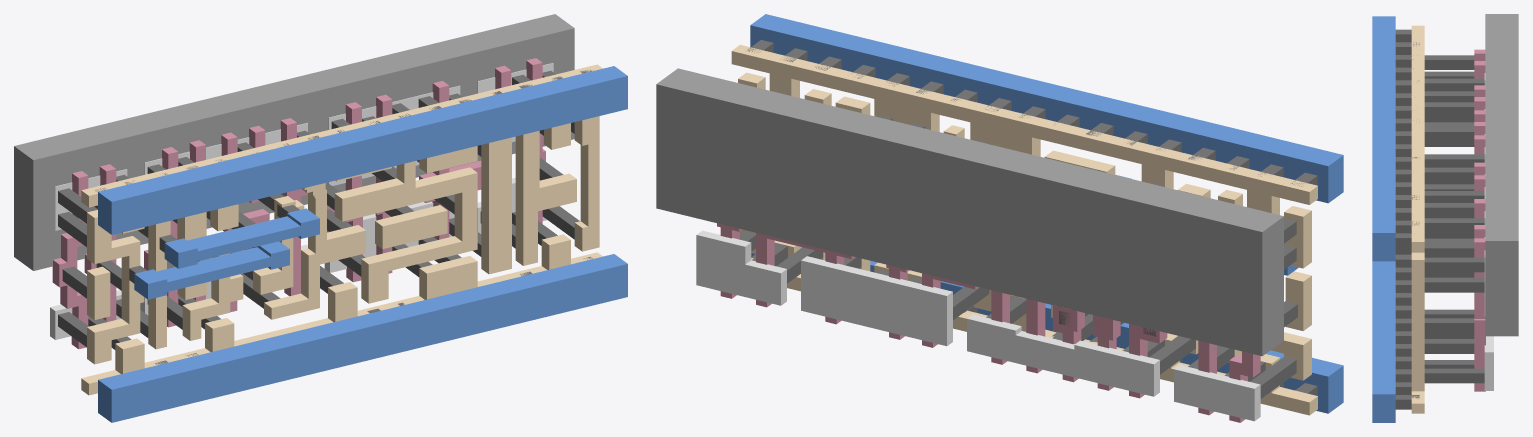
File: sky130_fd_sc_hd__dlrbp_1.gds.gltf
3 views of the same model, side by side, from view 1: azimuth 30°, elevation 25°; view 2: azimuth 150°, elevation 25°; view 3: azimuth 270°, elevation 25° (orthographic). The views are drawn at different scales.
Parts seen in each view (by area): view 1: sky130_fd_sc_hd__dlrbp_1_met1, sky130_fd_sc_hd__dlrbp_1_li1, sky130_fd_sc_hd__dlrbp_1_nwell, sky130_fd_sc_hd__dlrbp_1_licon, sky130_fd_sc_hd__dlrbp_1_poly, sky130_fd_sc_hd__dlrbp_1_diff, sky130_fd_sc_hd__dlrbp_1_mcon; view 2: sky130_fd_sc_hd__dlrbp_1_nwell, sky130_fd_sc_hd__dlrbp_1_li1, sky130_fd_sc_hd__dlrbp_1_diff, sky130_fd_sc_hd__dlrbp_1_met1, sky130_fd_sc_hd__dlrbp_1_poly, sky130_fd_sc_hd__dlrbp_1_licon, sky130_fd_sc_hd__dlrbp_1_mcon; view 3: sky130_fd_sc_hd__dlrbp_1_licon, sky130_fd_sc_hd__dlrbp_1_nwell, sky130_fd_sc_hd__dlrbp_1_met1, sky130_fd_sc_hd__dlrbp_1_mcon, sky130_fd_sc_hd__dlrbp_1_li1, sky130_fd_sc_hd__dlrbp_1_poly, sky130_fd_sc_hd__dlrbp_1_diff.
Part boxes in pixels (<box>): sky130_fd_sc_hd__dlrbp_1_met1: <box>98,66,627,422</box>; sky130_fd_sc_hd__dlrbp_1_li1: <box>81,64,602,395</box>; sky130_fd_sc_hd__dlrbp_1_nwell: <box>14,14,574,270</box>; sky130_fd_sc_hd__dlrbp_1_licon: <box>58,70,579,349</box>; sky130_fd_sc_hd__dlrbp_1_poly: <box>52,58,545,349</box>; sky130_fd_sc_hd__dlrbp_1_diff: <box>50,63,553,339</box>; sky130_fd_sc_hd__dlrbp_1_mcon: <box>95,70,592,364</box>; sky130_fd_sc_hd__dlrbp_1_nwell: <box>656,68,1283,356</box>; sky130_fd_sc_hd__dlrbp_1_li1: <box>731,44,1317,415</box>; sky130_fd_sc_hd__dlrbp_1_diff: <box>696,230,1260,421</box>; sky130_fd_sc_hd__dlrbp_1_met1: <box>750,14,1343,413</box>; sky130_fd_sc_hd__dlrbp_1_poly: <box>717,223,1260,422</box>; sky130_fd_sc_hd__dlrbp_1_licon: <box>739,91,1297,398</box>; sky130_fd_sc_hd__dlrbp_1_mcon: <box>746,40,1317,395</box>; sky130_fd_sc_hd__dlrbp_1_licon: <box>1424,55,1484,383</box>; sky130_fd_sc_hd__dlrbp_1_nwell: <box>1485,14,1518,336</box>; sky130_fd_sc_hd__dlrbp_1_met1: <box>1372,16,1395,422</box>; sky130_fd_sc_hd__dlrbp_1_mcon: <box>1395,29,1419,409</box>; sky130_fd_sc_hd__dlrbp_1_li1: <box>1411,25,1424,413</box>; sky130_fd_sc_hd__dlrbp_1_poly: <box>1474,49,1485,391</box>; sky130_fd_sc_hd__dlrbp_1_diff: <box>1484,73,1493,390</box>.
Bounding box in the file's own units: 8.2 × 3.2 × 2.24.
